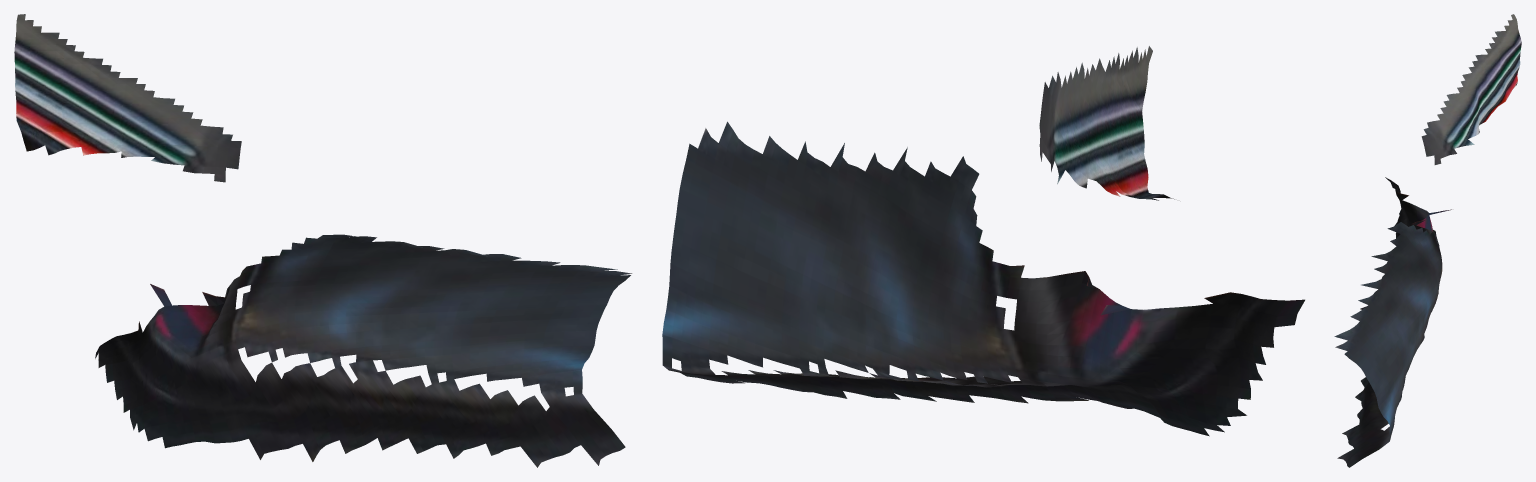
The model's file is observed-surface.glb.
3 views of the same model, side by side, from view 1: azimuth 30°, elevation 25°; view 2: azimuth 150°, elevation 25°; view 3: azimuth 270°, elevation 25° (orthographic). The views are drawn at different scales.
Parts seen in each view (by area): view 1: geometry_0; view 2: geometry_0; view 3: geometry_0.
Boxes of the visible parts, x1,y1,x2,y2 form: geometry_0: [14, 14, 632, 467]; geometry_0: [662, 46, 1304, 436]; geometry_0: [1334, 14, 1521, 467].
Size of the model in its own units: 0.5404 by 0.4762 by 0.2676.
Materials: 1 (1 with a texture image).
